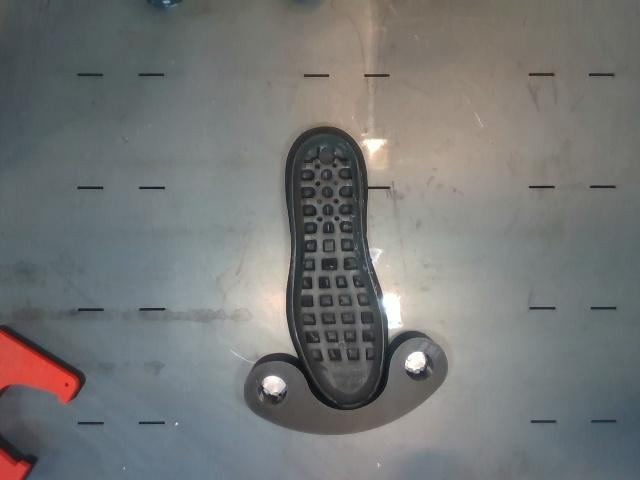shoes: (292, 134, 384, 406)
